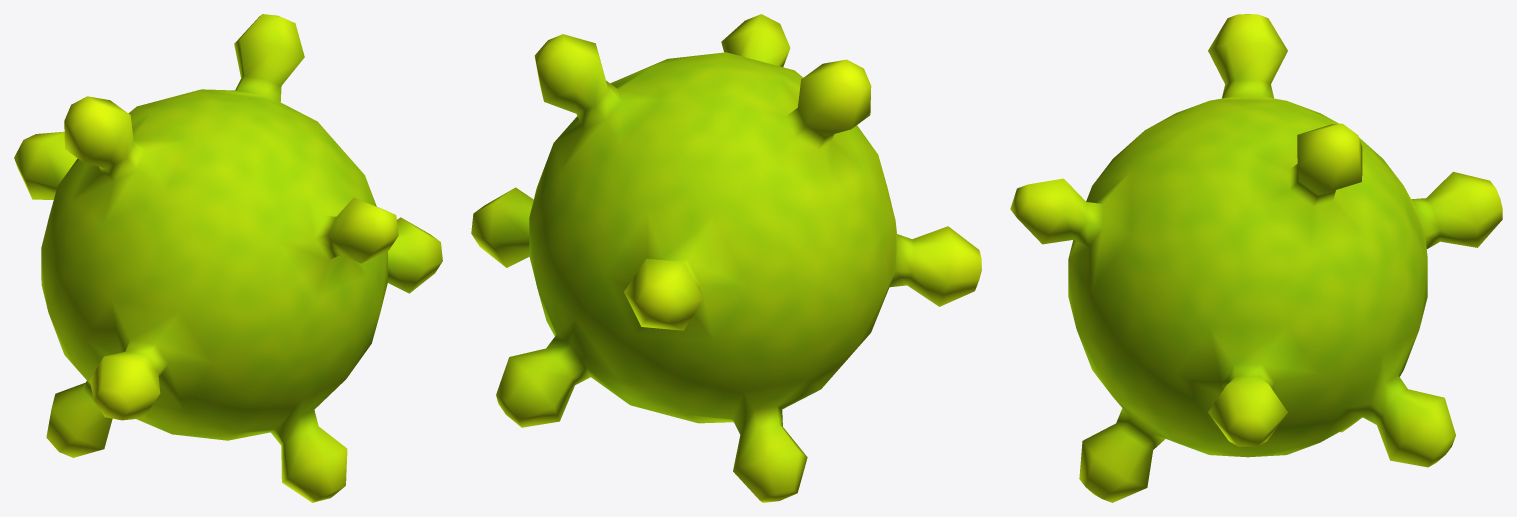
Rendered from Bacteria.FBX.
3 renders of one model, left to right at view 1: azimuth 30°, elevation 25°; view 2: azimuth 150°, elevation 25°; view 3: azimuth 270°, elevation 25°, orthographic. The views are drawn at different scales.
Visible parts, largest first — view 1: Bacteria; view 2: Bacteria; view 3: Bacteria.
Boxes of the visible parts, left/top/right/bottom form: Bacteria: left=14, top=14, right=442, bottom=502; Bacteria: left=471, top=14, right=981, bottom=502; Bacteria: left=1010, top=14, right=1502, bottom=502.
Size of the model in its own units: 88.18 by 80.32 by 88.88.
